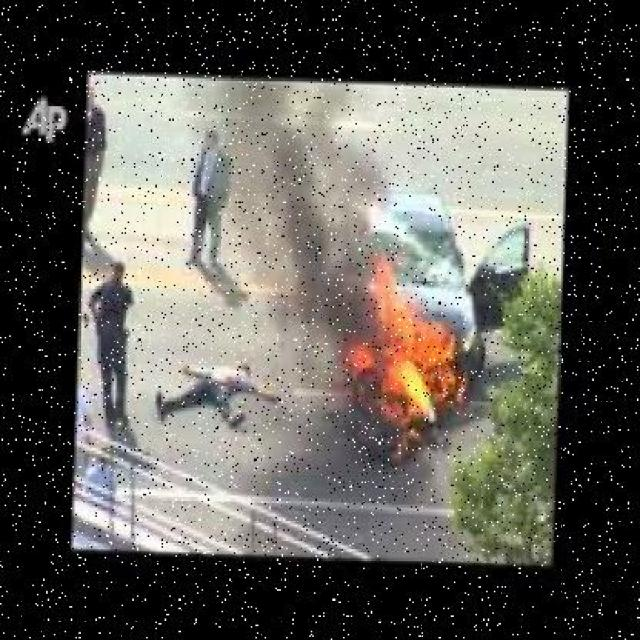fire: (326, 284, 482, 473)
